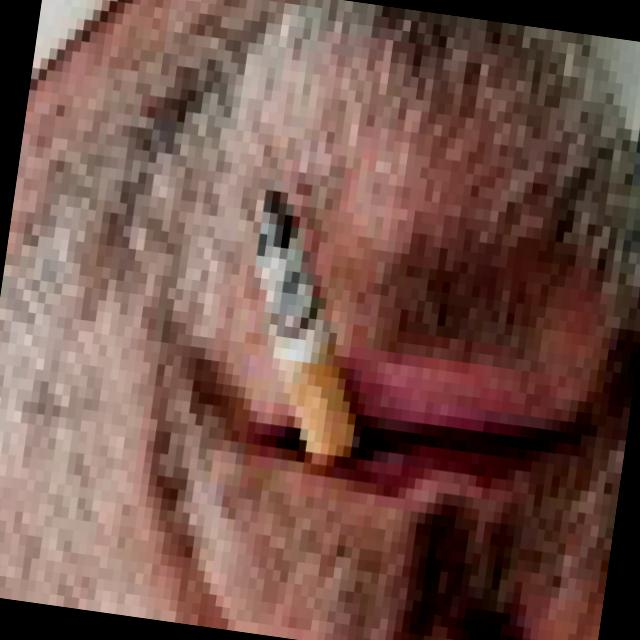smoke: (218, 180, 396, 468)
